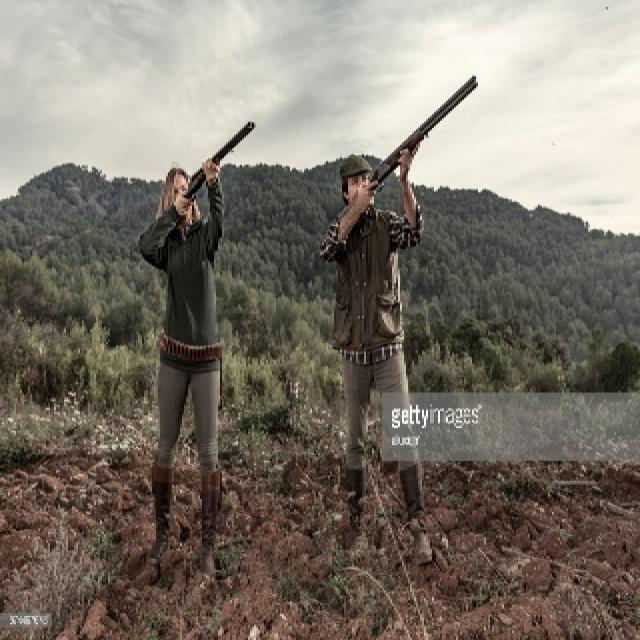rifle: (339, 69, 485, 210), (159, 116, 267, 230)
